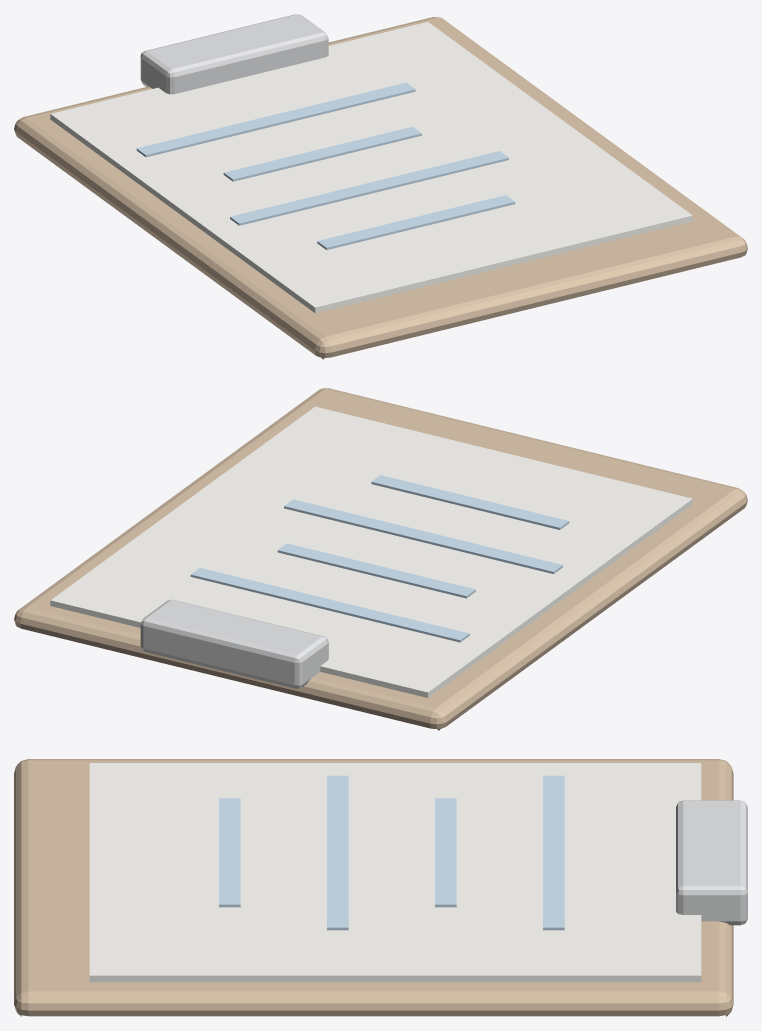
Rendered from plan_board.glb.
3 renders of one model, top to bottom at view 1: azimuth 30°, elevation 25°; view 2: azimuth 150°, elevation 25°; view 3: azimuth 270°, elevation 25°, orthographic. The views are drawn at different scales.
Parts seen in each view (by area): view 1: plan_board_paper, plan_board_oak_edge, plan_board_sky, plan_board_aluminium; view 2: plan_board_paper, plan_board_oak_edge, plan_board_sky, plan_board_aluminium; view 3: plan_board_paper, plan_board_oak_edge, plan_board_sky, plan_board_aluminium.
Part boxes in pixels (left/top/right/bottom): plan_board_paper: left=50, top=22, right=692, bottom=313; plan_board_oak_edge: left=14, top=17, right=747, bottom=359; plan_board_sky: left=136, top=82, right=515, bottom=249; plan_board_aluminium: left=140, top=14, right=328, bottom=94; plan_board_paper: left=50, top=406, right=692, bottom=697; plan_board_oak_edge: left=14, top=388, right=747, bottom=730; plan_board_sky: left=190, top=475, right=569, bottom=642; plan_board_aluminium: left=140, top=599, right=328, bottom=688; plan_board_paper: left=89, top=763, right=701, bottom=982; plan_board_oak_edge: left=14, top=759, right=733, bottom=1016; plan_board_sky: left=219, top=775, right=564, bottom=930; plan_board_aluminium: left=676, top=800, right=747, bottom=925.
Size of the model in its own units: 0.8 by 0.0847 by 1.02.
